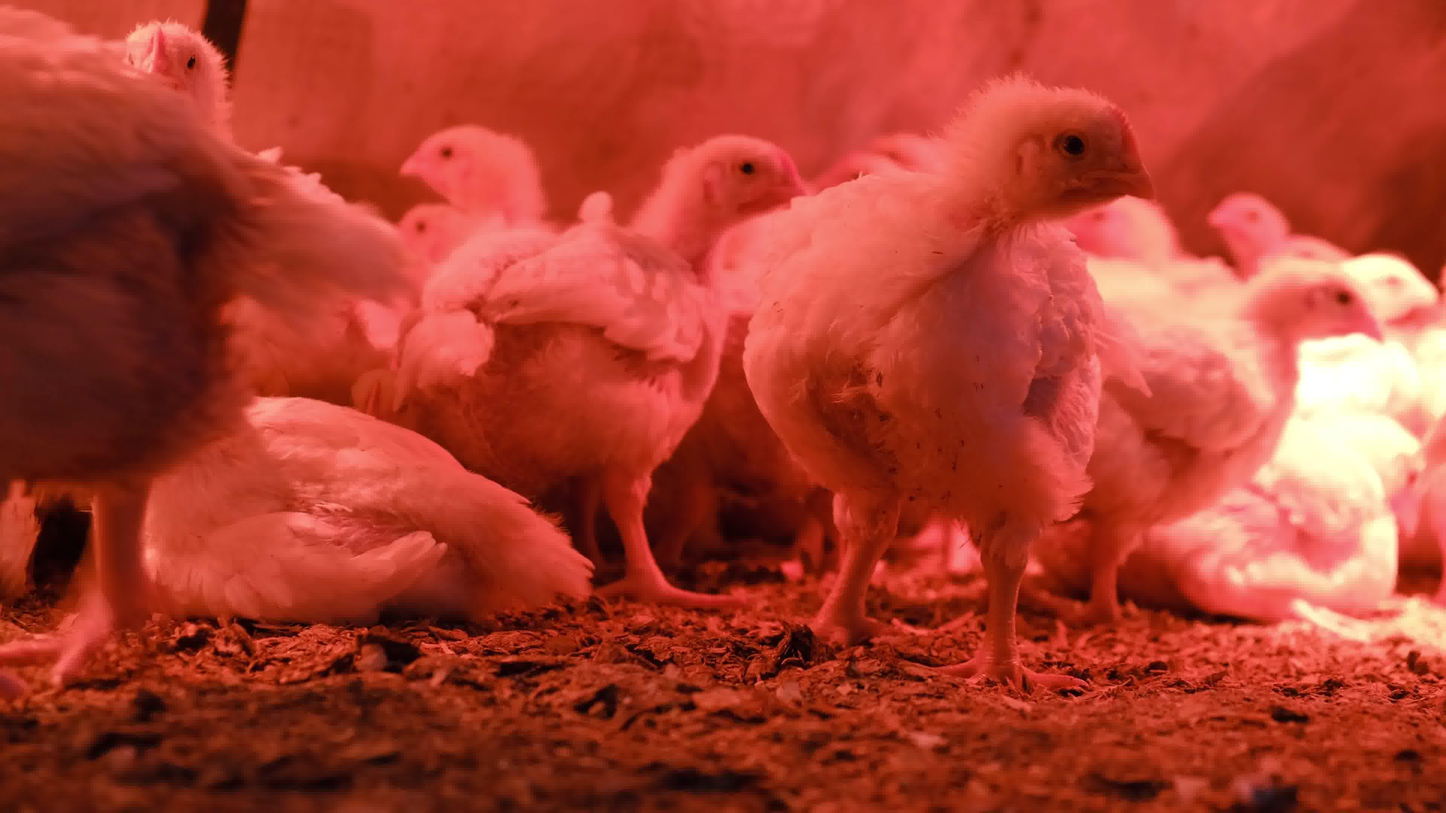AbNormal: (111, 367, 644, 664), (1137, 386, 1444, 644)
Normal: (0, 0, 401, 738), (740, 70, 1158, 681), (412, 115, 815, 627), (1092, 233, 1378, 625), (329, 55, 542, 269), (1203, 162, 1369, 280)
